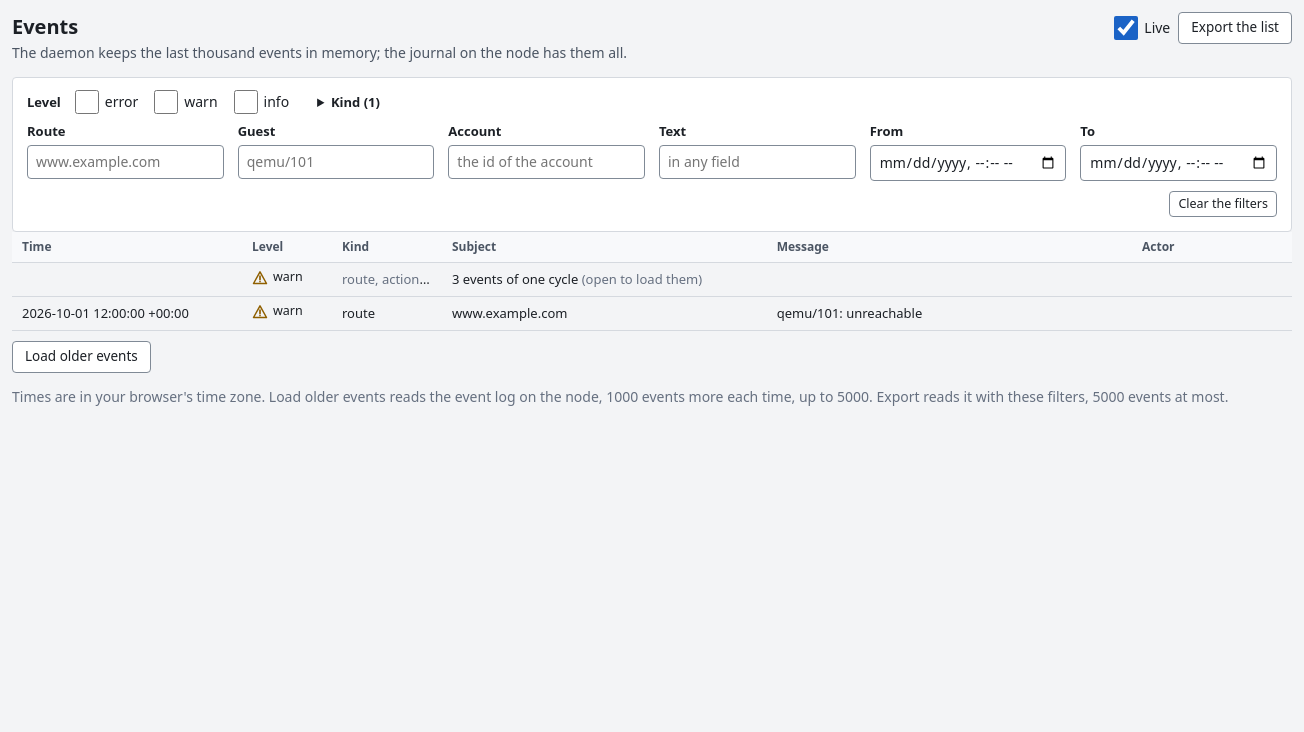
Scenario: a gap › opened, keeps its events when the filter changes after the log was read
The width and height of the screenshot is (1304, 732).
Note: the log has two of the three, so the gap still offers them
Click the button "Load older events". click: point(81, 357)
box: [12, 341, 151, 373]
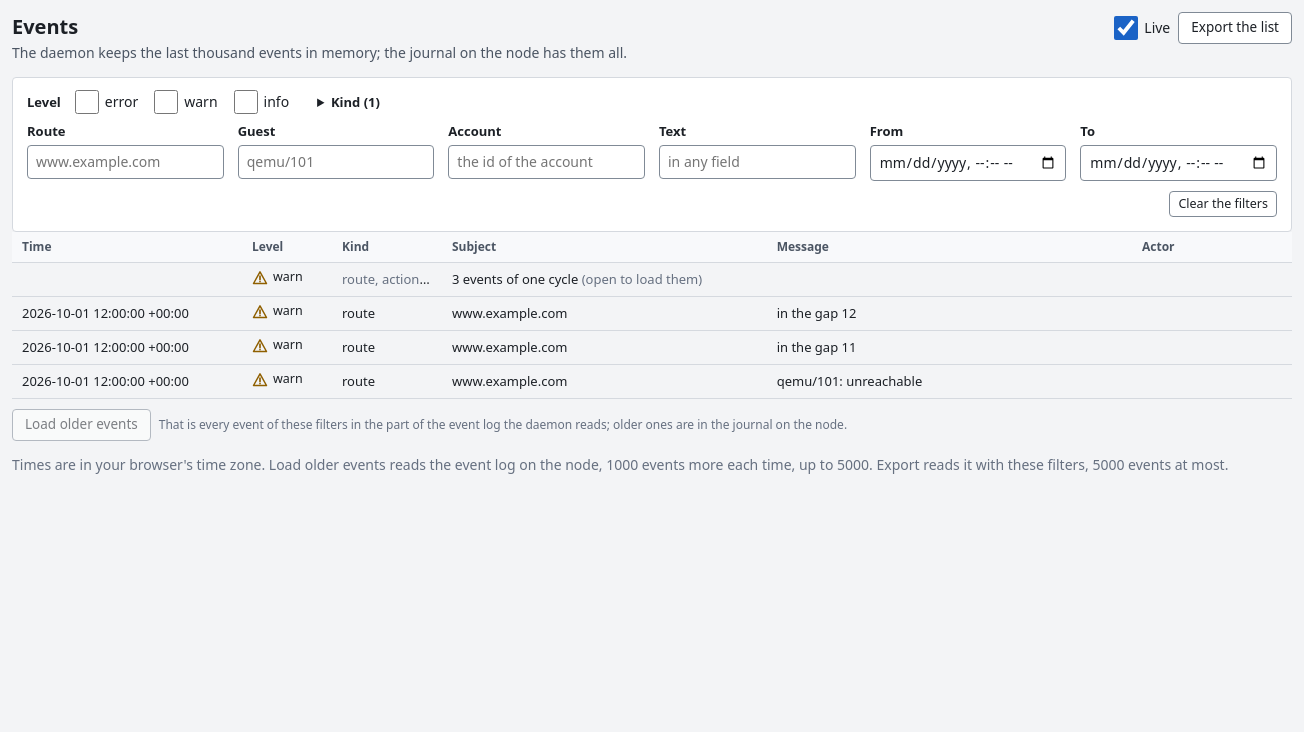
Check: the text "in the gap 12" is shown, box [777, 304, 856, 322]
Click the text "3 events of one cycle (open to load them)". click: point(477, 279)
box: [452, 270, 702, 288]
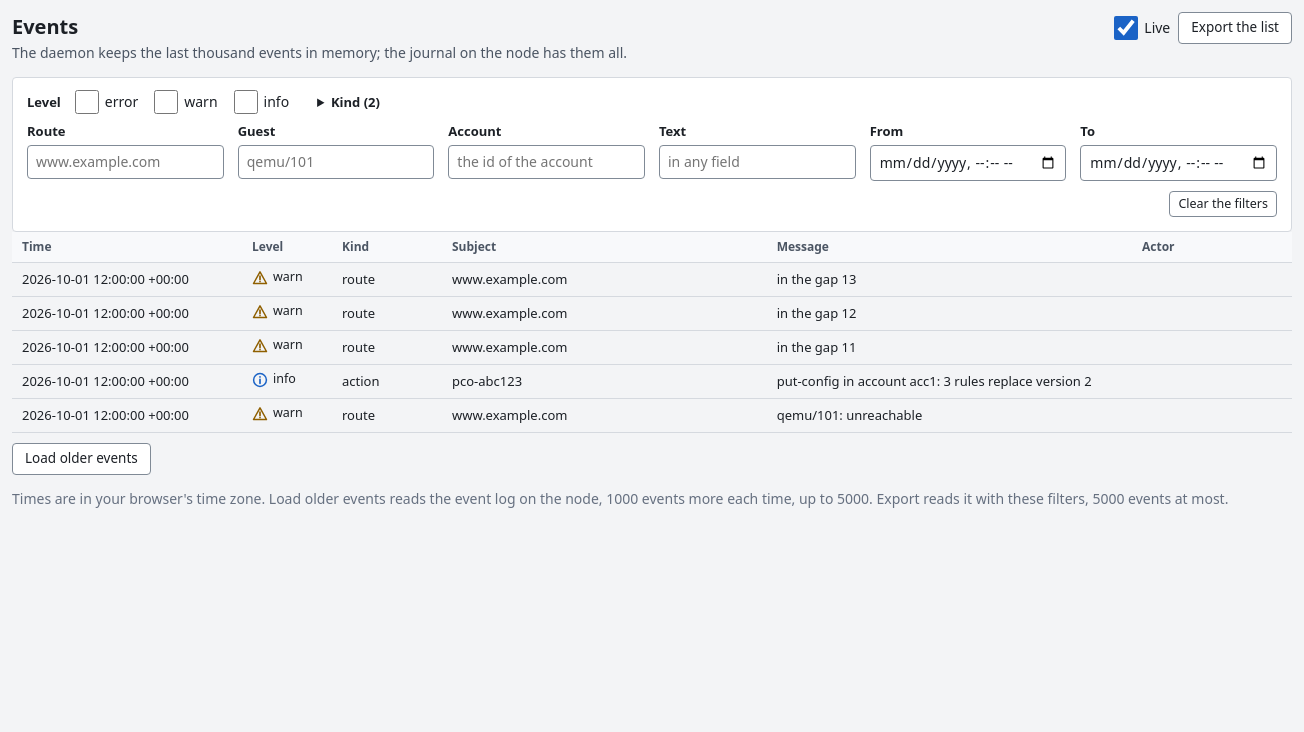
Check: the text "in the gap 11" is shown, box [777, 338, 856, 356]
Check: the text "in the gap 12" is shown, box [777, 304, 856, 322]
Check: the text "in the gap 13" is shown, box [777, 270, 856, 288]
